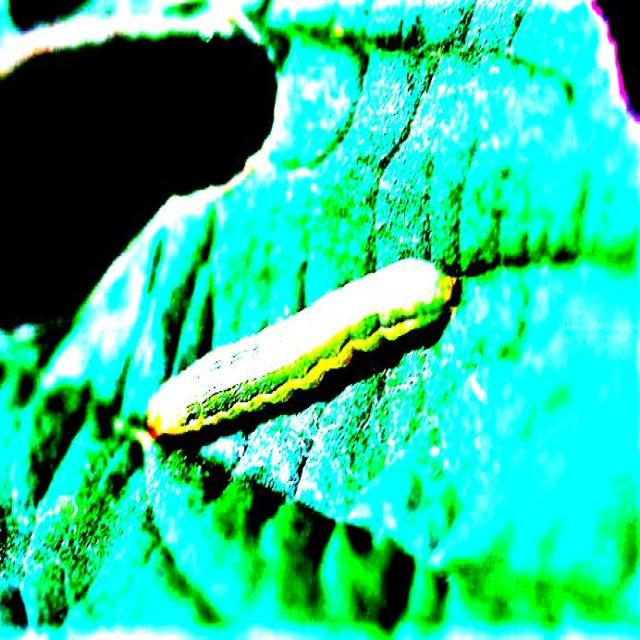Armyworm: (117, 245, 485, 455)
